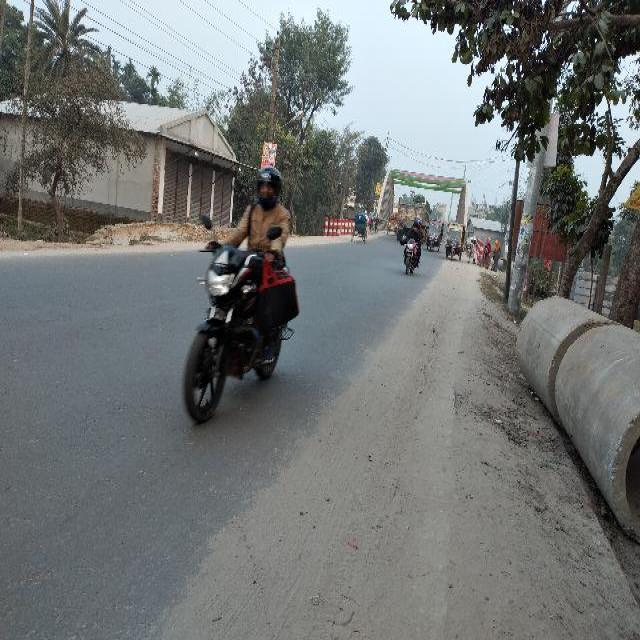motorcycle: (175, 142, 307, 438), (399, 217, 424, 275), (444, 220, 464, 261), (348, 209, 368, 243), (425, 216, 440, 252), (387, 209, 397, 235)
truck: (395, 192, 430, 245)
